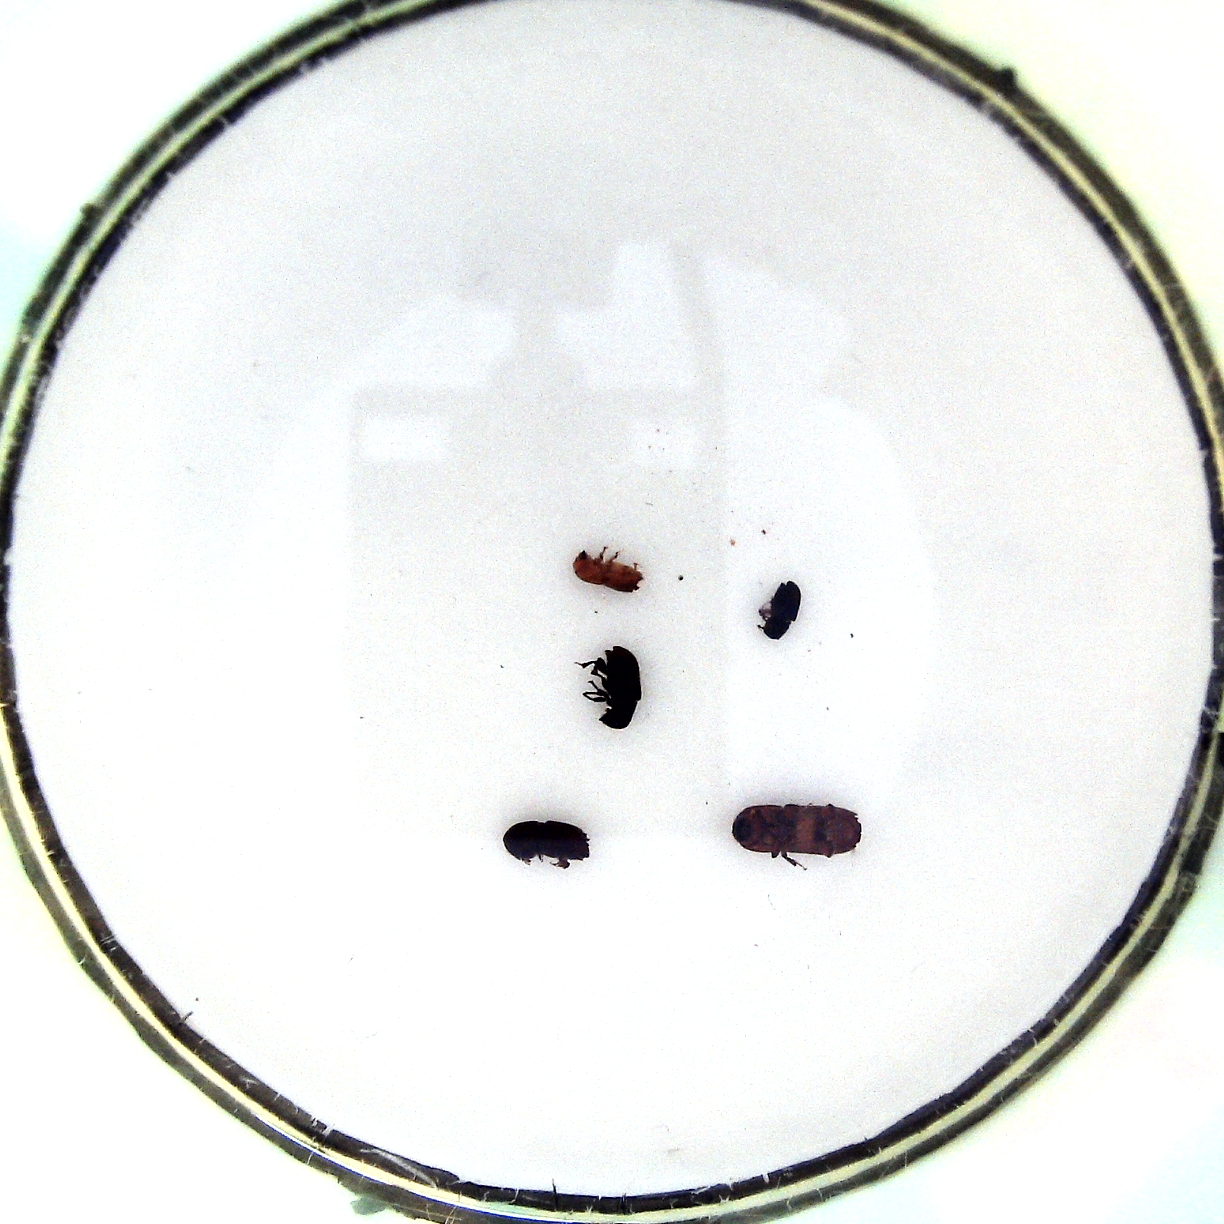Boerner: (730, 798, 868, 875)
Linnaeus: (498, 818, 593, 880)
acuminatus: (571, 546, 643, 600)
armandi: (573, 646, 648, 731)
coleoptera: (750, 577, 806, 642)
